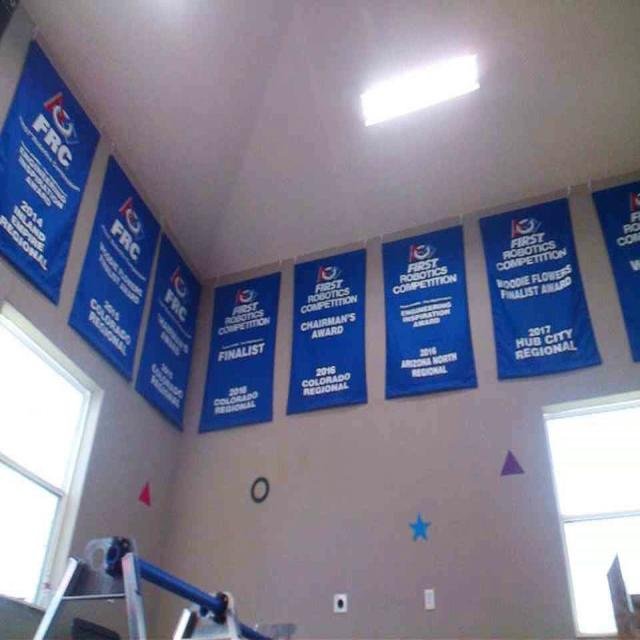ring_black: (249, 475, 270, 503)
star_blue: (407, 512, 431, 540)
triangle_purple: (500, 448, 524, 476)
triangle_red: (137, 481, 152, 505)
